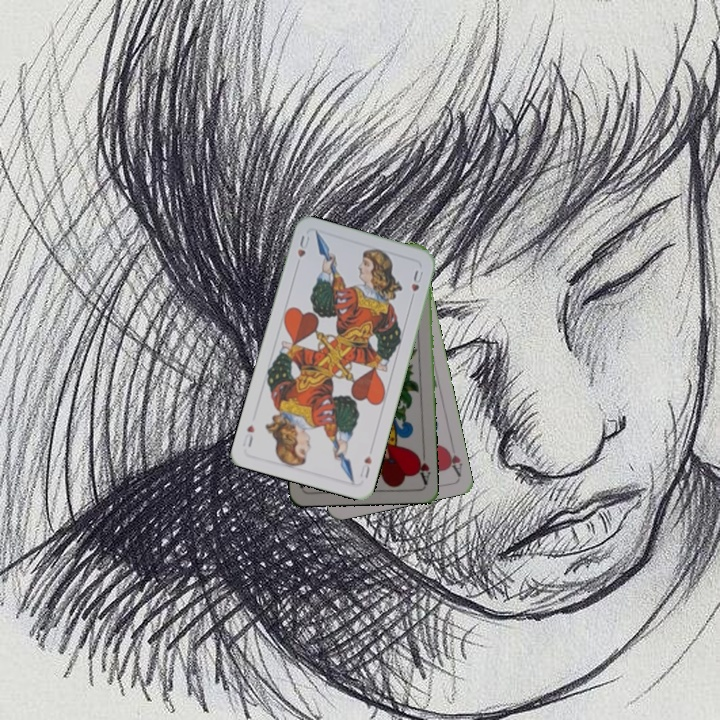HA: (441, 443, 465, 479), (412, 446, 433, 487)
HU: (293, 231, 312, 260), (356, 452, 374, 481)
